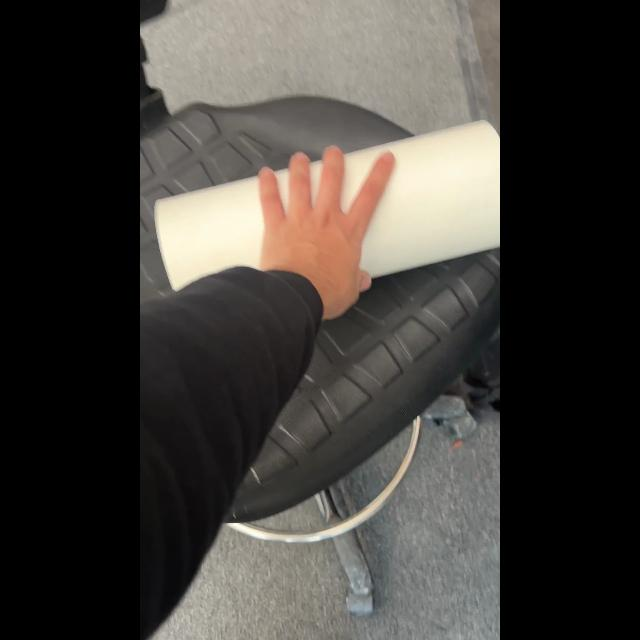CORAL: (154, 118, 498, 292)
